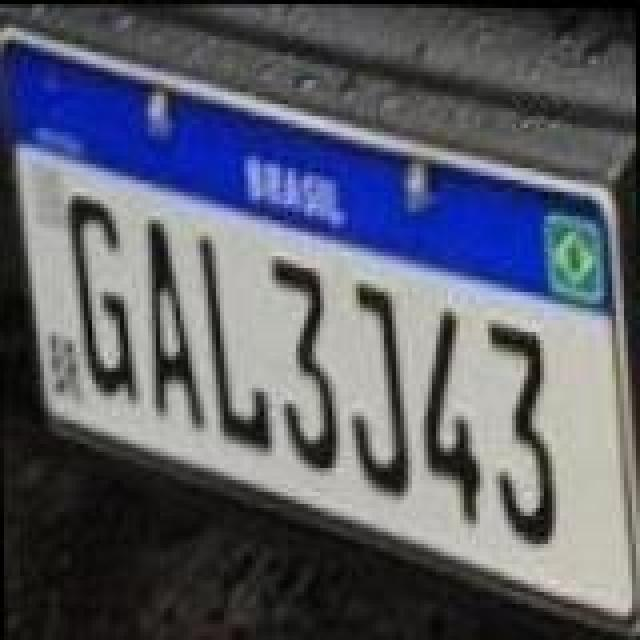3: (486, 316, 558, 544), (270, 256, 338, 472)
4: (420, 310, 480, 530)
A: (148, 214, 204, 434)
G: (68, 196, 140, 408)
J: (348, 278, 408, 498)
L: (194, 234, 270, 454)
